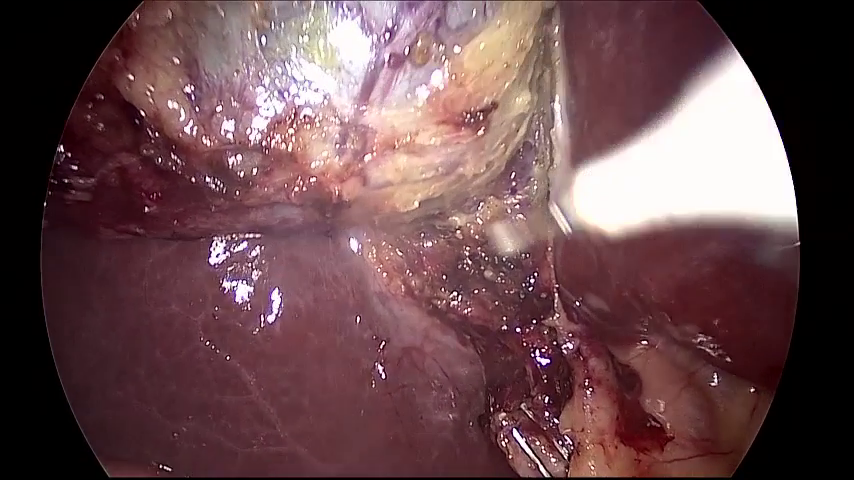lhook: (494, 39, 798, 251)
